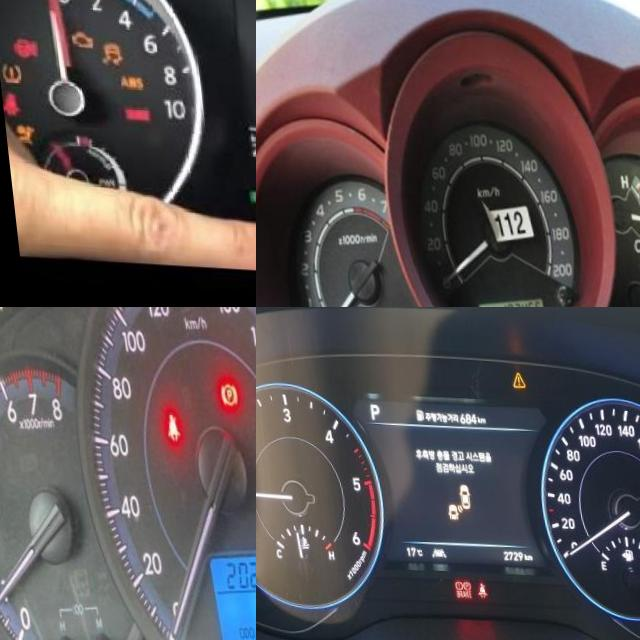Central Warning lamp: (507, 367, 521, 382)
LaneCenteringOff: (422, 543, 437, 554)
Seat Belt: (156, 408, 173, 439)
